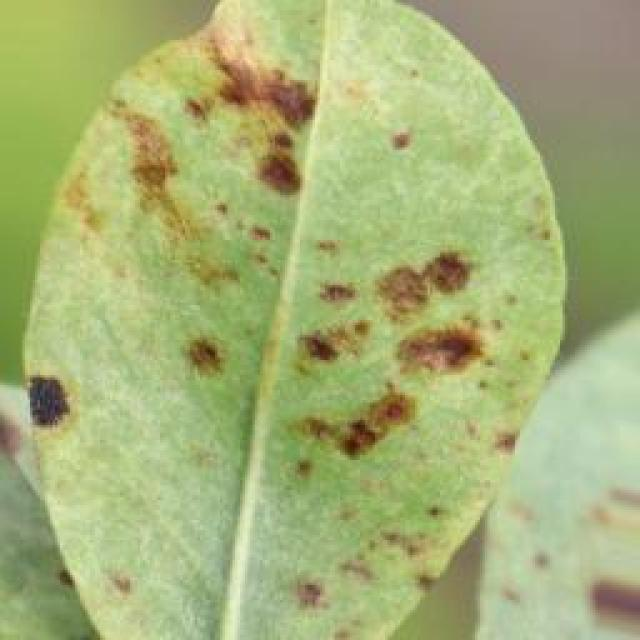Whitefly: (75, 17, 537, 629)
